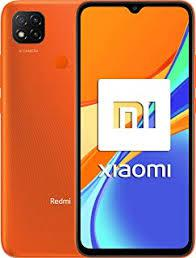Smartphone: (79, 4, 192, 253), (6, 3, 89, 258)
